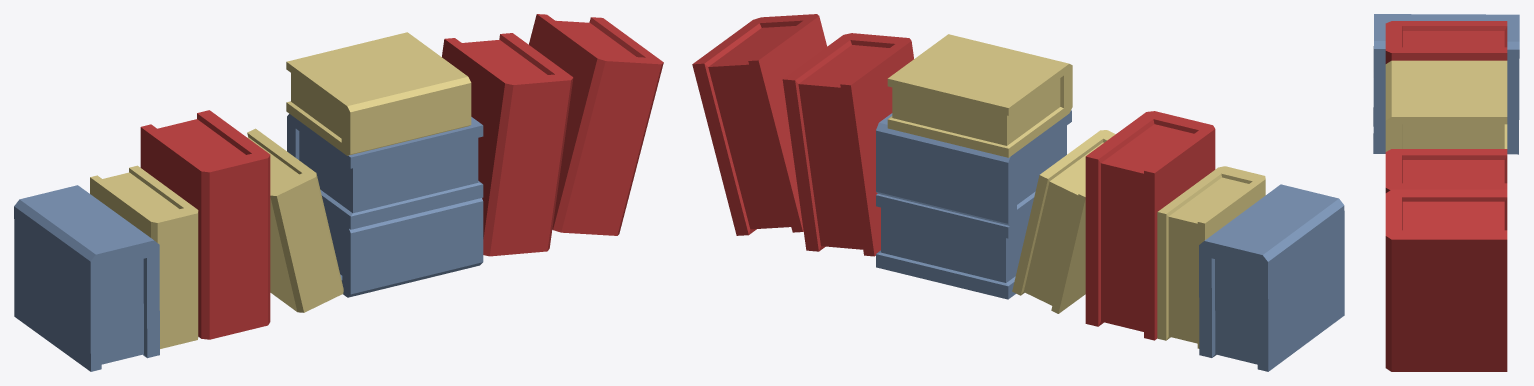
File: bookstack9.fbx
The picture shows the model from 3 angles, left to right: view 1: azimuth 30°, elevation 25°; view 2: azimuth 150°, elevation 25°; view 3: azimuth 270°, elevation 25°; orthographic projection. The views are drawn at different scales.
Parts seen in each view (by area): view 1: bookstack9; view 2: bookstack9; view 3: bookstack9.
Part boxes in pixels (x1,y1,x2,y2): bookstack9: (14, 14, 663, 371); bookstack9: (692, 14, 1344, 371); bookstack9: (1373, 14, 1519, 371).
Size of the model in its own units: 85.23 by 27.54 by 19.45.
